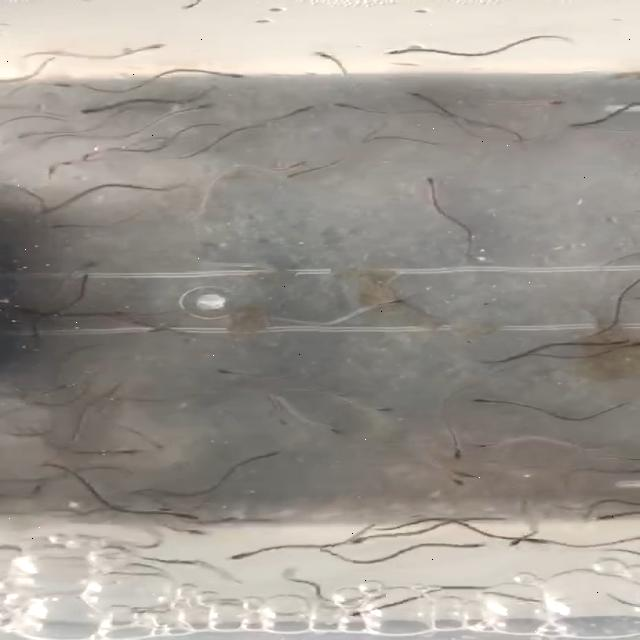active_glass_eel: (168, 99, 220, 118), (248, 442, 292, 464), (380, 44, 440, 60), (308, 49, 361, 67), (228, 544, 278, 562), (406, 87, 451, 105), (504, 532, 544, 552), (439, 467, 474, 489), (136, 317, 176, 336), (436, 438, 466, 462), (274, 166, 318, 182), (76, 146, 120, 162), (446, 538, 490, 554), (21, 207, 66, 222), (470, 433, 512, 449), (210, 68, 250, 84), (468, 392, 508, 408), (105, 442, 145, 458), (415, 173, 443, 195), (164, 511, 208, 525), (136, 435, 170, 453), (347, 532, 384, 548), (322, 422, 357, 438), (74, 104, 108, 120), (529, 96, 574, 108), (356, 403, 401, 415), (441, 468, 482, 481), (14, 125, 52, 139), (170, 524, 214, 536), (271, 160, 311, 173), (284, 100, 321, 114), (603, 336, 640, 350), (563, 116, 595, 132), (138, 36, 170, 52), (326, 100, 374, 110), (40, 78, 76, 90), (42, 220, 78, 232), (368, 298, 416, 307), (212, 367, 254, 377), (75, 268, 98, 286), (591, 513, 628, 523), (611, 342, 640, 354)
